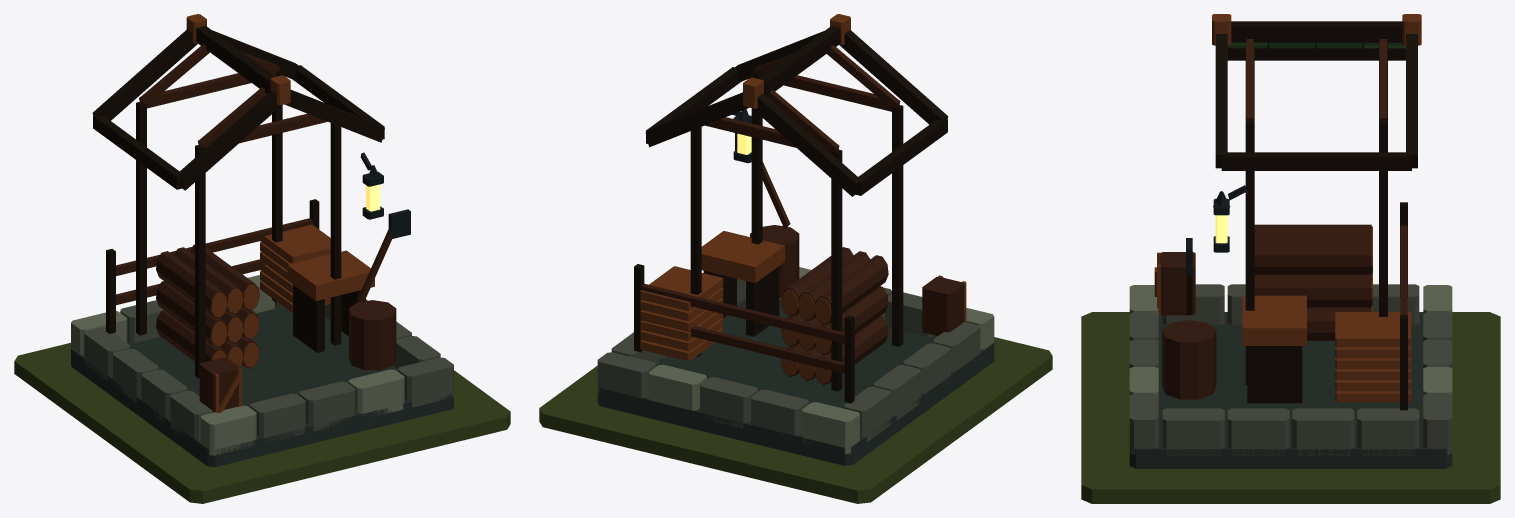
Rendered from lumber_t6.glb.
3 renders of one model, left to right at view 1: azimuth 30°, elevation 25°; view 2: azimuth 150°, elevation 25°; view 3: azimuth 270°, elevation 25°, orthographic. The views are drawn at different scales.
Visible parts, largest first — view 1: MMR | lumber | T06 Architecture.001, MMR | lumber | Tier 06 Ground.001; view 2: MMR | lumber | T06 Architecture.001, MMR | lumber | Tier 06 Ground.001; view 3: MMR | lumber | T06 Architecture.001, MMR | lumber | Tier 06 Ground.001.
Part boxes in pixels (bbox=[...]): MMR | lumber | T06 Architecture.001: bbox=[71, 14, 453, 467]; MMR | lumber | Tier 06 Ground.001: bbox=[14, 342, 510, 503]; MMR | lumber | T06 Architecture.001: bbox=[597, 14, 994, 465]; MMR | lumber | Tier 06 Ground.001: bbox=[539, 337, 1052, 503]; MMR | lumber | T06 Architecture.001: bbox=[1129, 14, 1452, 468]; MMR | lumber | Tier 06 Ground.001: bbox=[1081, 312, 1500, 503].
Size of the model in its own units: 1.3 by 1.34 by 1.3.
2 materials, 1 textured.
